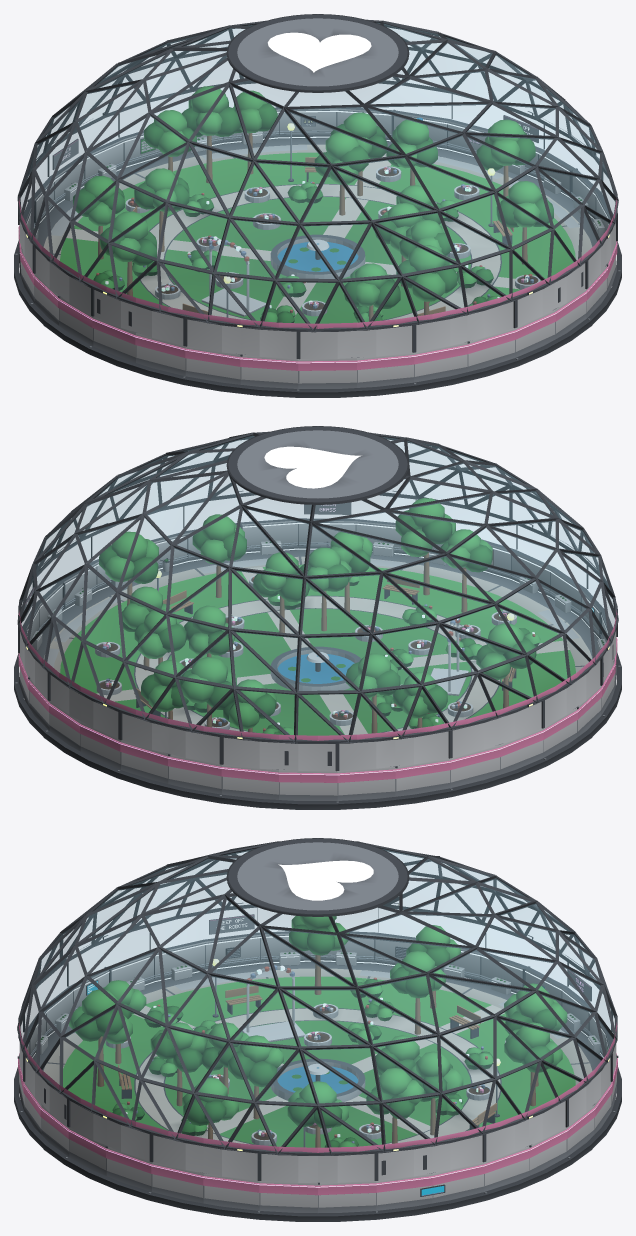
File: park_l.glb
3 renders of one model, top to bottom at view 1: azimuth 30°, elevation 25°; view 2: azimuth 150°, elevation 25°; view 3: azimuth 270°, elevation 25°, orthographic.
Parts seen in each view (by area): view 1: Roof, Interior, Base, Wall_20, Wall_21, Upper_20, Wall_22, Upper_21, Upper_22, Wall_19, Upper_19, Wall_23 (+27 smaller); view 2: Roof, Interior, Base, Wall_11, Wall_10, Wall_09, Upper_11, Upper_09, Wall_12, Upper_10, Upper_12, Wall_08 (+26 smaller); view 3: Roof, Interior, Base, Wall_00, Wall_31, Upper_00, Upper_31, Wall_30, Upper_30, Wall_01, Wall_29, Upper_29 (+32 smaller).
Part boxes in pixels (x1,y1,x2,y2): Roof: (17, 14, 618, 332); Interior: (51, 86, 579, 323); Base: (14, 138, 621, 397); Wall_20: (240, 354, 298, 388); Wall_21: (298, 357, 357, 388); Upper_20: (240, 325, 298, 358); Wall_22: (357, 352, 414, 387); Upper_21: (298, 328, 356, 359); Upper_22: (357, 323, 414, 357); Wall_19: (185, 346, 240, 384); Upper_19: (185, 316, 240, 354); Wall_23: (414, 342, 467, 382); Roof: (17, 426, 618, 743); Interior: (44, 498, 579, 735); Base: (14, 550, 621, 809); Wall_11: (337, 766, 395, 800); Wall_10: (278, 769, 337, 800); Wall_09: (221, 764, 278, 799); Upper_11: (337, 737, 395, 770); Upper_09: (221, 735, 278, 769); Wall_12: (395, 758, 450, 796); Upper_10: (279, 740, 337, 771); Upper_12: (395, 728, 450, 766); Wall_08: (168, 754, 221, 794); Roof: (17, 838, 617, 1155); Interior: (63, 916, 575, 1147); Base: (14, 962, 621, 1221); Wall_00: (318, 1181, 376, 1212); Wall_31: (259, 1181, 317, 1212); Upper_00: (318, 1151, 376, 1182); Upper_31: (259, 1151, 317, 1182); Wall_30: (203, 1173, 259, 1210); Upper_30: (203, 1143, 259, 1180); Wall_01: (376, 1173, 432, 1210); Wall_29: (151, 1162, 203, 1203); Upper_29: (151, 1132, 203, 1172).
Size of the model in its own units: 23.75 by 9.36 by 23.75.
